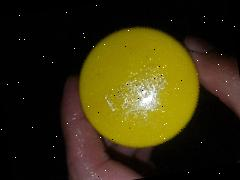plastic: (69, 16, 208, 156)
